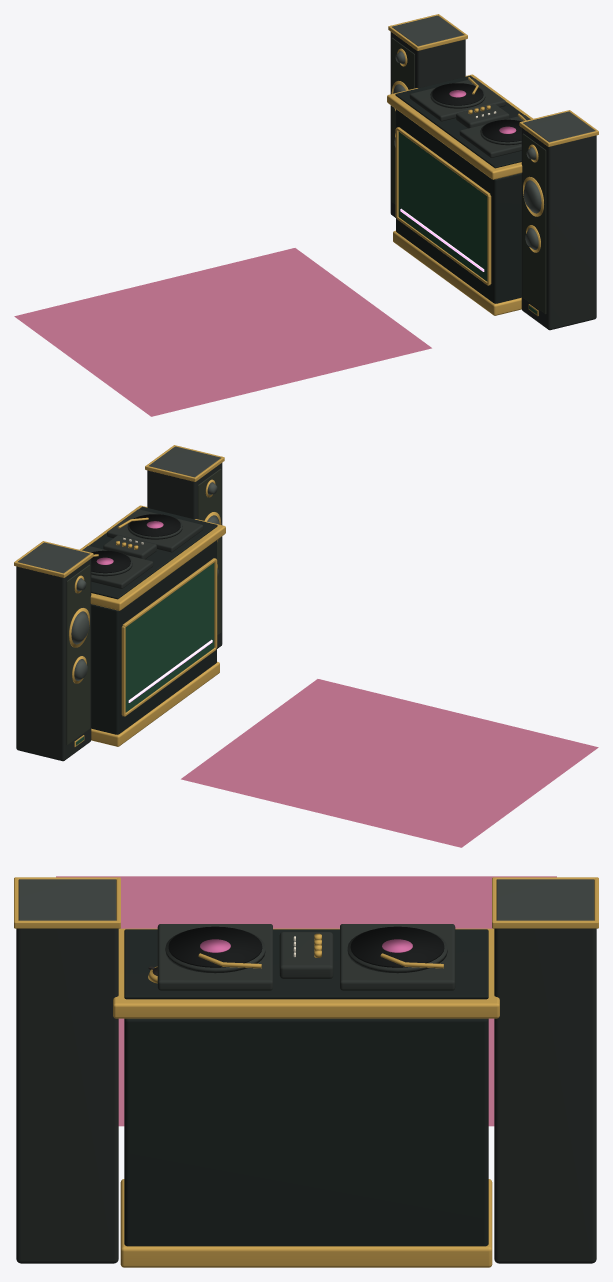
Rendered from rooftop_dj_booth.glb.
3 views of the same model, one above another, from view 1: azimuth 30°, elevation 25°; view 2: azimuth 150°, elevation 25°; view 3: azimuth 270°, elevation 25° (orthographic). The views are drawn at different scales.
Parts seen in each view (by area): view 1: DanceFloor, Speaker1, BoothFront, Booth, SpeakerGrille1, Speaker0, BoothLip, DeckTop, BoothBase, SpeakerGrille0, SpeakerTop0, SpeakerTop1 (+5 smaller); view 2: DanceFloor, Speaker0, BoothFront, Booth, SpeakerGrille0, Speaker1, BoothLip, DeckTop, BoothBase, SpeakerGrille1, SpeakerTop0, SpeakerTop1 (+5 smaller); view 3: Booth, Speaker0, Speaker1, DanceFloor, DeckTop, BoothLip, BoothBase, SpeakerTop0, SpeakerTop1, Deck1, Deck0, Record0 (+6 smaller).
Part boxes in pixels (bbox=[...]): DanceFloor: bbox=[14, 248, 431, 416]; Speaker1: bbox=[521, 128, 596, 330]; BoothFront: bbox=[398, 132, 487, 281]; Booth: bbox=[396, 109, 521, 303]; SpeakerGrille1: bbox=[522, 133, 546, 314]; Speaker0: bbox=[390, 32, 465, 217]; BoothLip: bbox=[387, 74, 532, 179]; DeckTop: bbox=[395, 75, 523, 168]; BoothBase: bbox=[393, 230, 521, 315]; SpeakerGrille0: bbox=[391, 37, 414, 204]; SpeakerTop0: bbox=[392, 15, 463, 46]; SpeakerTop1: bbox=[523, 111, 594, 142]; DanceFloor: bbox=[181, 679, 598, 847]; Speaker0: bbox=[16, 559, 91, 761]; BoothFront: bbox=[125, 563, 214, 712]; Booth: bbox=[91, 540, 216, 734]; SpeakerGrille0: bbox=[66, 564, 90, 745]; Speaker1: bbox=[147, 463, 222, 648]; BoothLip: bbox=[80, 505, 225, 610]; DeckTop: bbox=[89, 506, 217, 599]; BoothBase: bbox=[91, 661, 219, 746]; SpeakerGrille1: bbox=[198, 468, 221, 635]; SpeakerTop0: bbox=[18, 542, 89, 573]; SpeakerTop1: bbox=[149, 446, 220, 477]; Booth: bbox=[124, 1018, 488, 1246]; Speaker0: bbox=[494, 928, 596, 1263]; Speaker1: bbox=[16, 928, 118, 1263]; DanceFloor: bbox=[56, 876, 556, 1126]; DeckTop: bbox=[124, 929, 488, 999]; BoothLip: bbox=[113, 928, 499, 1018]; BoothBase: bbox=[120, 1179, 492, 1267]; SpeakerTop0: bbox=[496, 879, 594, 920]; SpeakerTop1: bbox=[18, 879, 116, 920]; Deck1: bbox=[157, 924, 272, 990]; Deck0: bbox=[340, 924, 455, 990]; Record0: bbox=[350, 926, 444, 967].
Size of the model in its own units: 2.43 by 0.9863 by 1.52.
